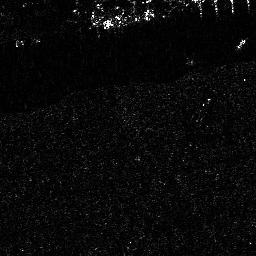ship: (92, 7, 162, 33)
